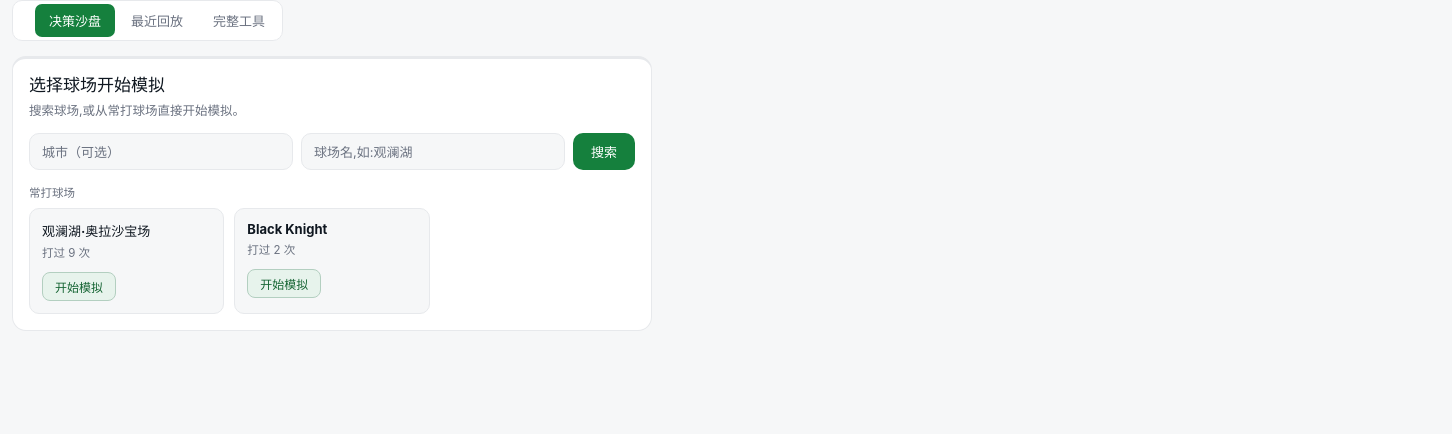
Scenario: LivePage tabs › threads recentRounds into the sandbox: 要建议 on a never-played course falls back to the latest round ref
Step 1. Type "观澜湖" into the field named "搜索球场" → coordinates (433, 152), box x1=301 y1=133 x2=565 y2=170
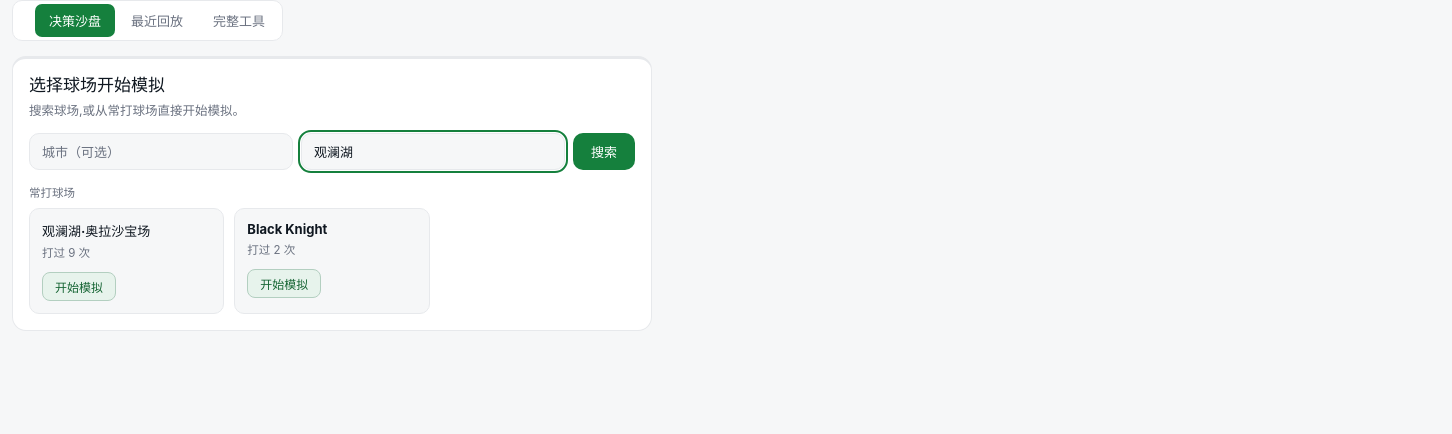
Step 2. Click the button "搜索" → coordinates (604, 152), box x1=573 y1=133 x2=635 y2=170
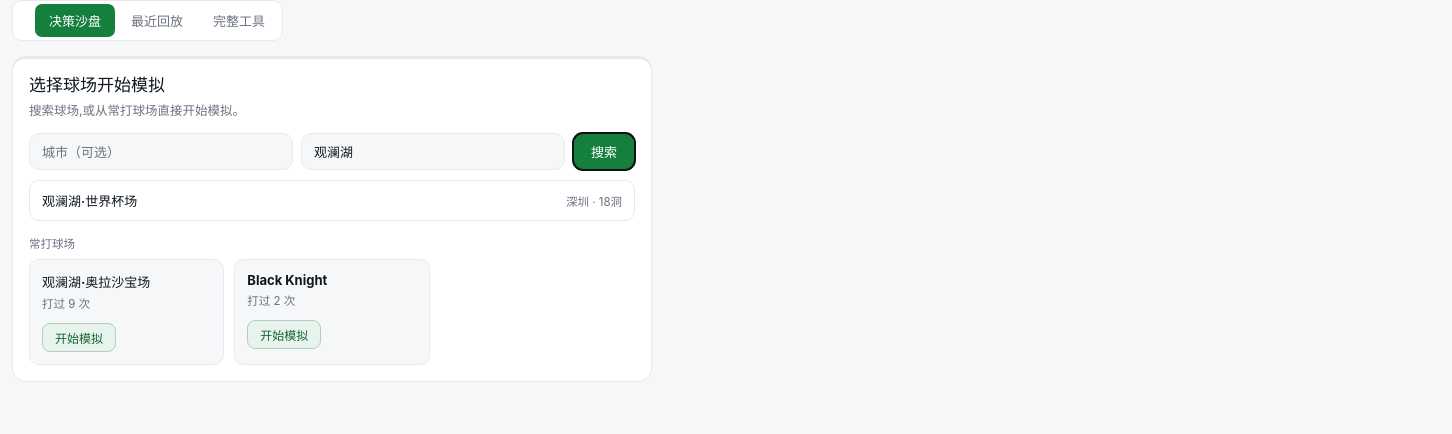
Step 3. Click the button "观澜湖·世界杯场 深圳 · 18洞" → coordinates (90, 201), box x1=30 y1=181 x2=634 y2=220
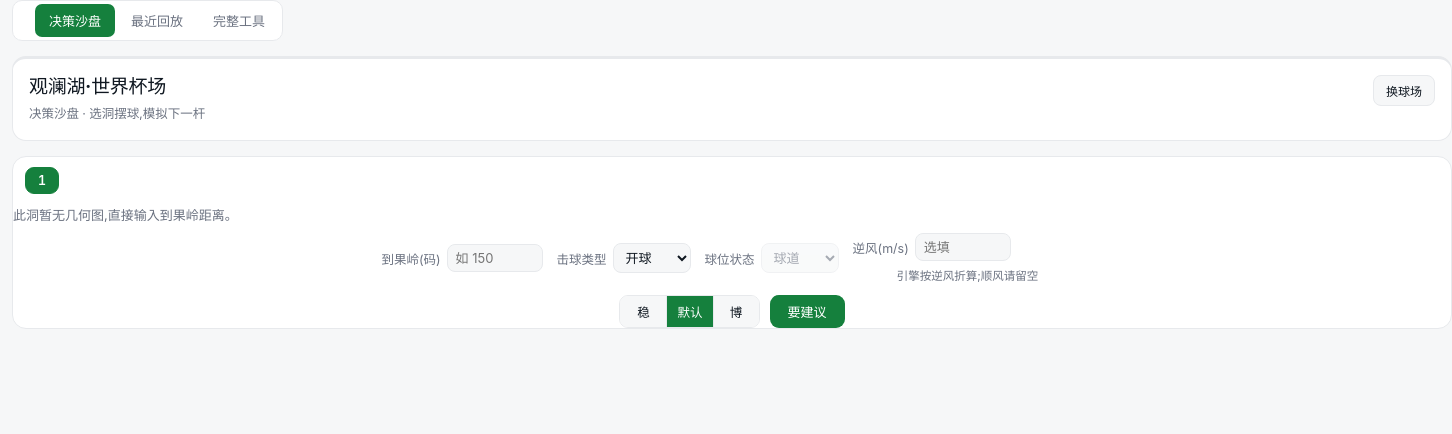
expect the element named "选洞" is shown: met, box x1=25 y1=166 x2=59 y2=194
Step 4. Click the button "要建议" → coordinates (807, 312), box x1=770 y1=295 x2=844 y2=328
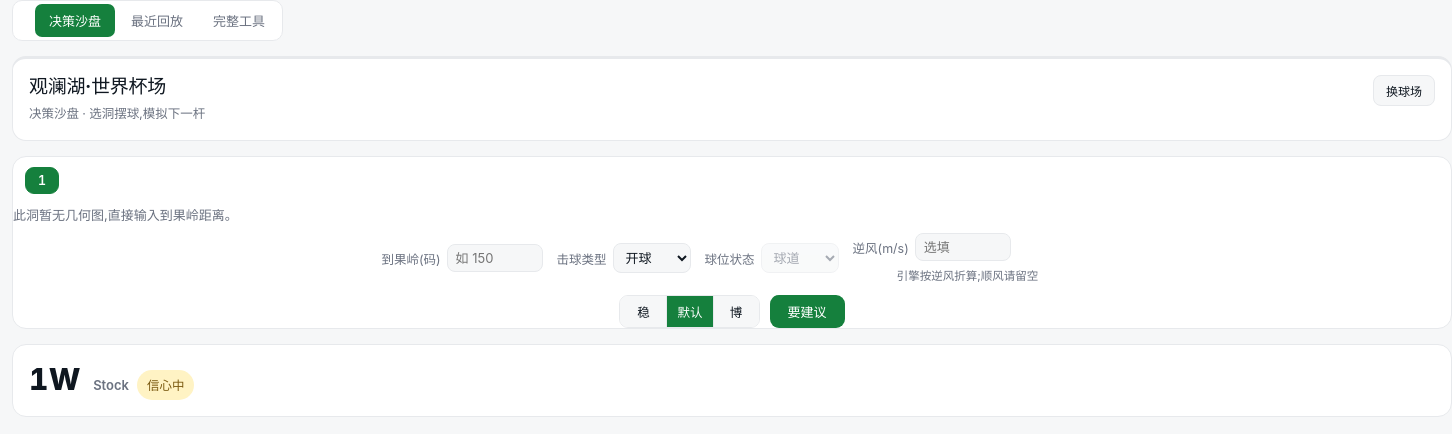
expect the element named "沙盘建议" is shown: met, box x1=12 y1=344 x2=1451 y2=417
